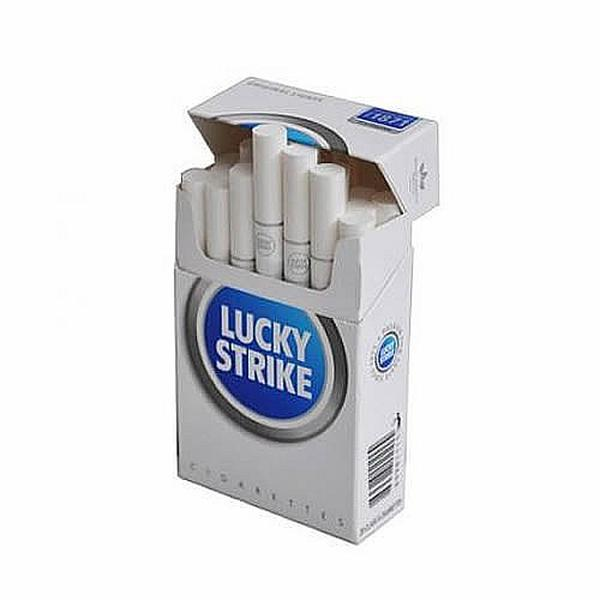lucky_strike_blue: (178, 232, 355, 482)
